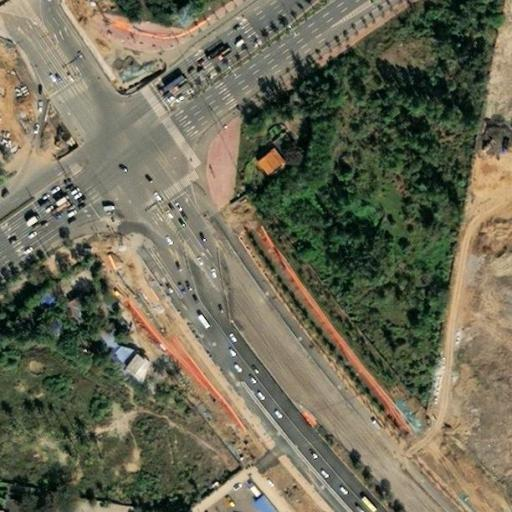building: (236, 130, 284, 183), (105, 336, 153, 381), (93, 322, 122, 351), (63, 290, 89, 320)
